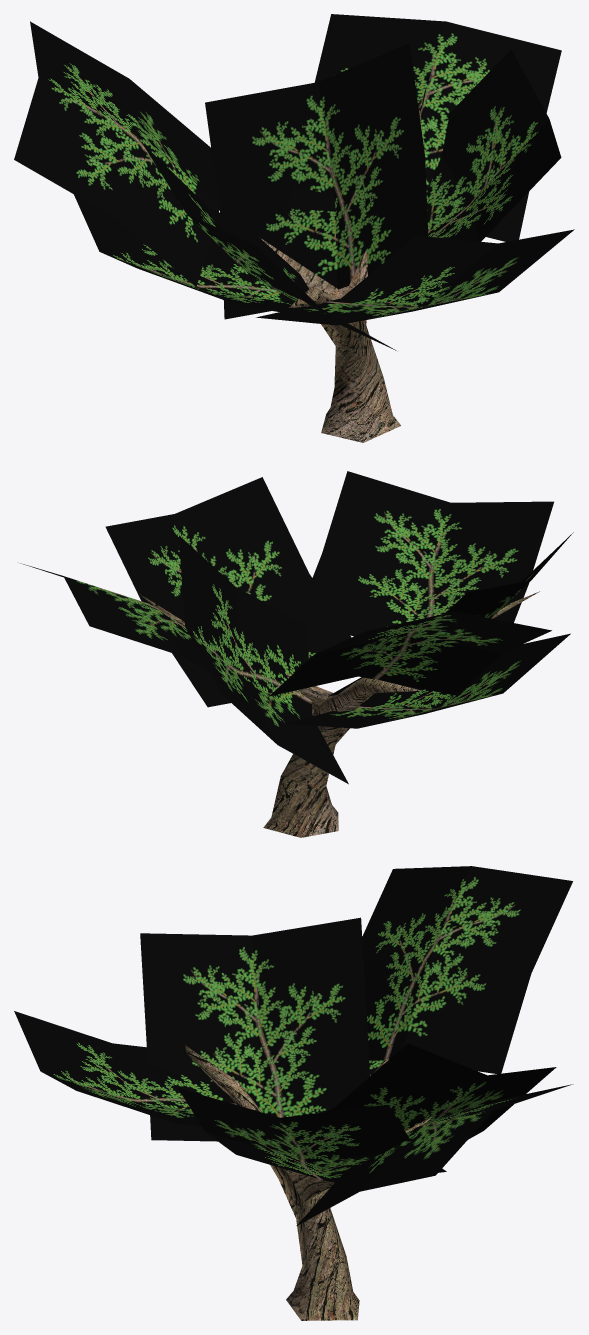
The model's file is tree.obj.
3 renders of one model, top to bottom at view 1: azimuth 30°, elevation 25°; view 2: azimuth 150°, elevation 25°; view 3: azimuth 270°, elevation 25°, orthographic. The views are drawn at different scales.
Parts seen in each view (by area): view 1: Tree_Circle; view 2: Tree_Circle; view 3: Tree_Circle.
Boxes of the visible parts, <box> form: Tree_Circle: <box>14,14,574,442</box>; Tree_Circle: <box>20,471,573,837</box>; Tree_Circle: <box>14,866,573,1320</box>.
Size of the model in its own units: 16.84 by 10 by 15.18.
Materials: 2 (2 with a texture image).
